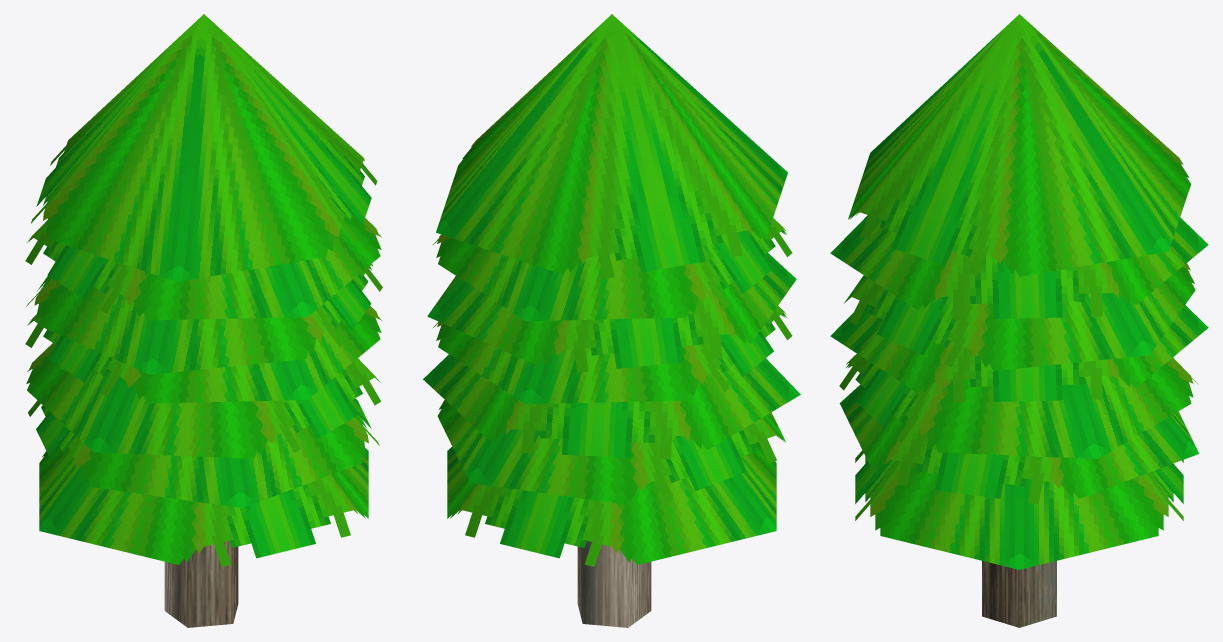
The model's file is tree1singleton.fbx.
3 views of the same model, side by side, from view 1: azimuth 30°, elevation 25°; view 2: azimuth 150°, elevation 25°; view 3: azimuth 270°, elevation 25° (orthographic).
Parts seen in each view (by area): view 1: tree; view 2: tree; view 3: tree.
Part boxes in pixels (<box>): tree: <box>25,14,382,627</box>; tree: <box>423,14,800,627</box>; tree: <box>830,14,1208,627</box>.
Size of the model in its own units: 23.96 by 41.67 by 23.93.
